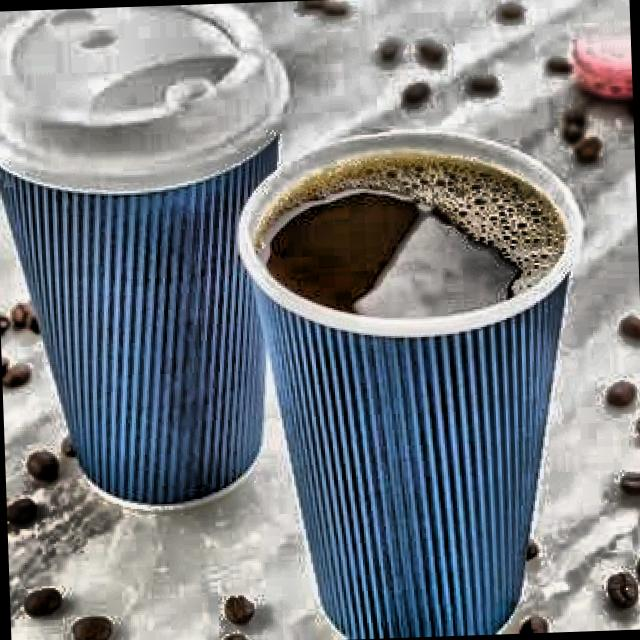Cup: (227, 118, 609, 640), (0, 1, 293, 529)
